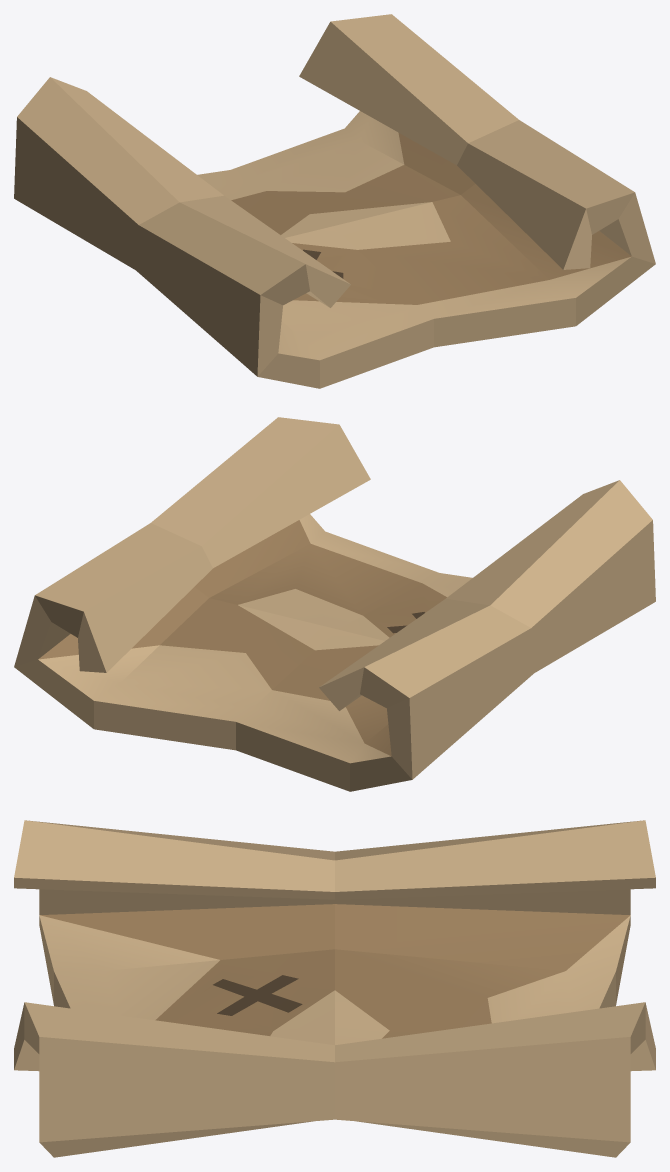
The model's file is SM_Item_Map_02.glb.
The picture shows the model from 3 angles, top to bottom: view 1: azimuth 30°, elevation 25°; view 2: azimuth 150°, elevation 25°; view 3: azimuth 270°, elevation 25°; orthographic projection. The views are drawn at different scales.
Parts seen in each view (by area): view 1: node_id4; view 2: node_id4; view 3: node_id4.
Boxes of the visible parts, x1,y1,x2,y2 form: node_id4: (14, 14, 655, 388); node_id4: (14, 417, 655, 791); node_id4: (14, 820, 655, 1157).
Size of the model in its own units: 0.512 by 0.1719 by 0.5882.
1 material, 1 textured.
